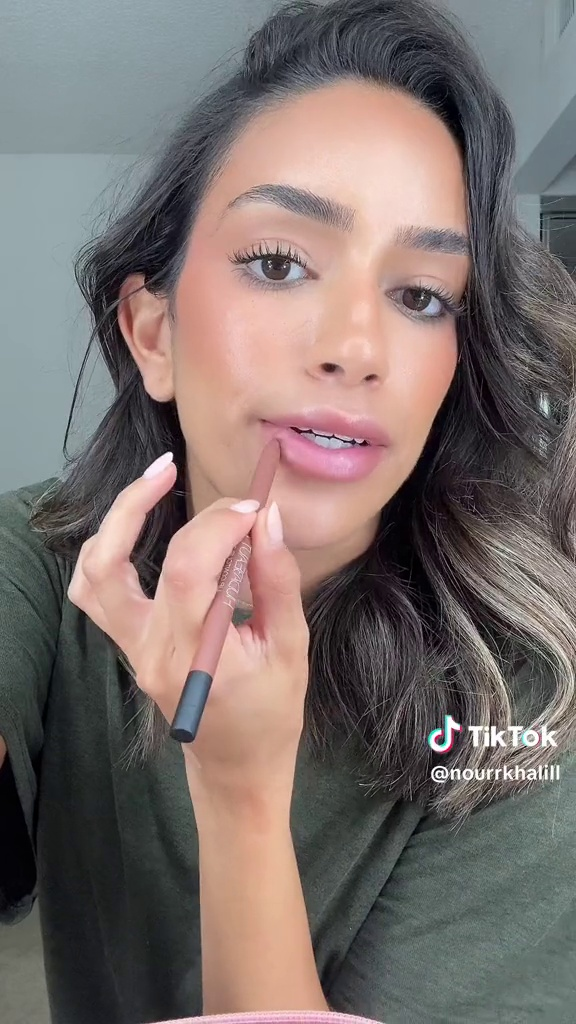train' :'yolo_data/train/images',: (156, 425, 291, 746)
